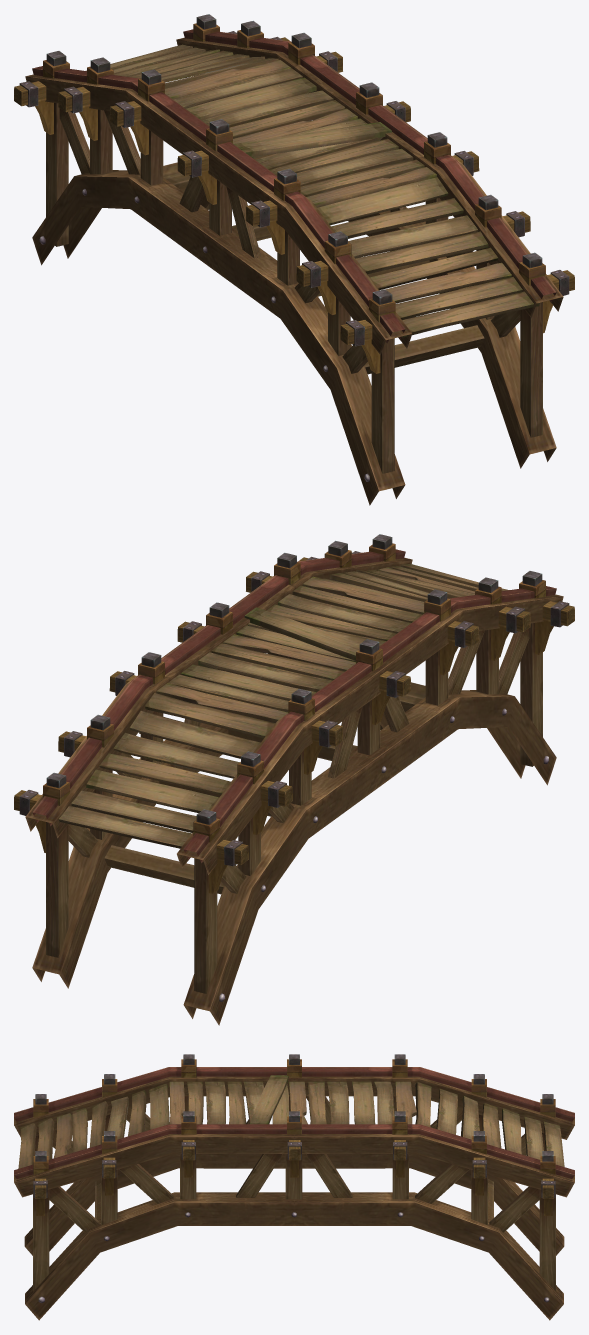
File: Map01_MuQiao_02.FBX
The picture shows the model from 3 angles, top to bottom: view 1: azimuth 30°, elevation 25°; view 2: azimuth 150°, elevation 25°; view 3: azimuth 270°, elevation 25°; orthographic projection. The views are drawn at different scales.
Parts seen in each view (by area): view 1: Box003; view 2: Box003; view 3: Box003.
Boxes of the visible parts, x1,y1,x2,y2 form: Box003: [14, 14, 574, 505]; Box003: [14, 534, 574, 1025]; Box003: [14, 1054, 574, 1320].
Size of the model in its own units: 615 by 670 by 1689.
